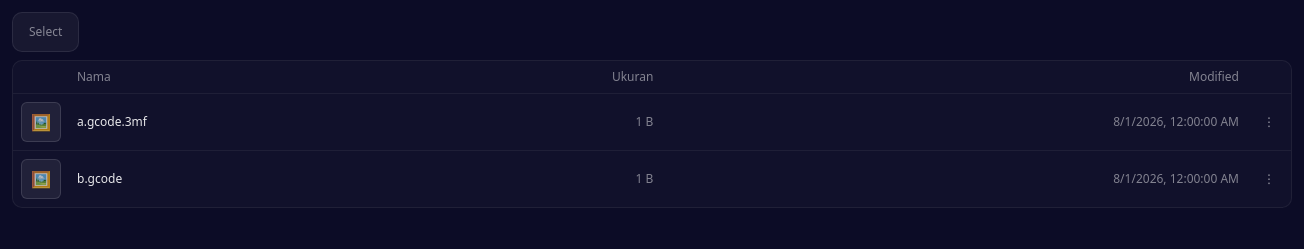
Test: FileManagerPanel › bulk download: satu file gagal download -> lanjut ke file lain, pesan error tampil
Expected: the text "a.gcode.3mf" is shown, top-left (69, 94), bottom-right (424, 150)
Click the button "Select": (46, 32) top-left (12, 12), bottom-right (79, 52)
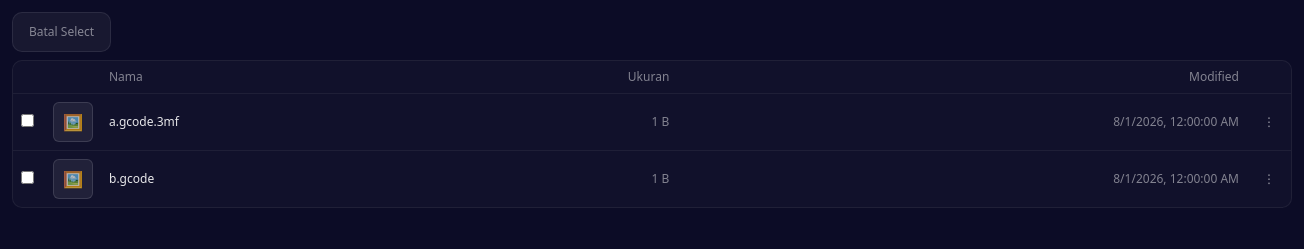
Click the checkbox named "a.gcode.3mf": (28, 120) top-left (21, 114), bottom-right (34, 126)
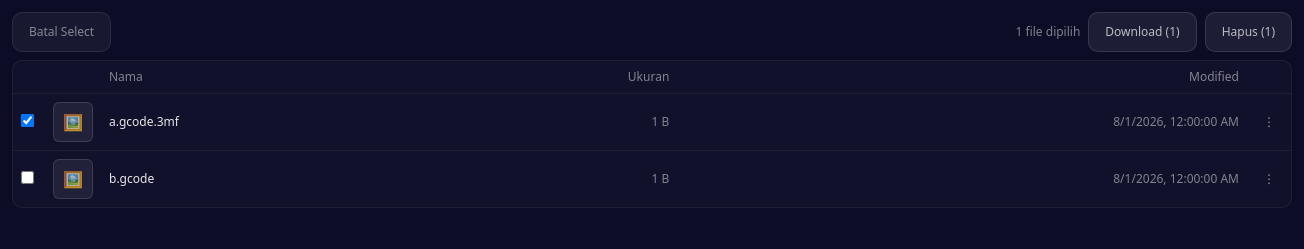
Click the checkbox named "b.gcode": (28, 177) top-left (21, 170), bottom-right (34, 184)
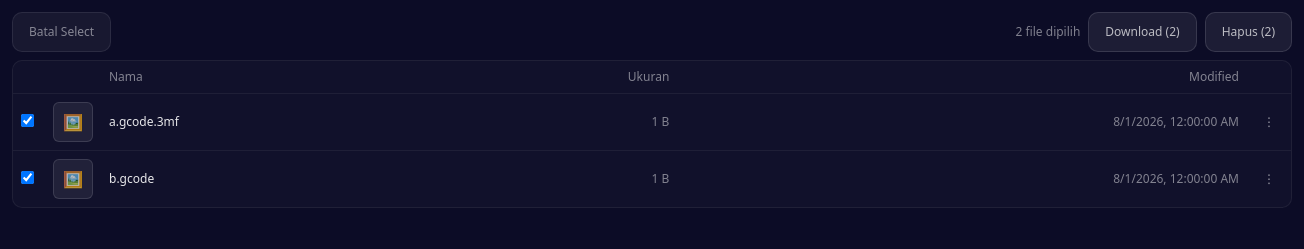
Click the button "Download (2)": (1142, 32) top-left (1088, 12), bottom-right (1197, 52)
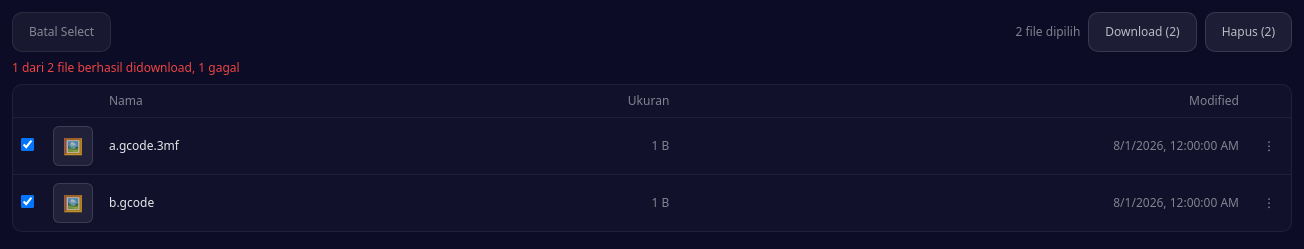
Now the text "1 dari 2 file berhasil didownload, 1 gagal" is shown, box top-left (12, 59), bottom-right (240, 76)
